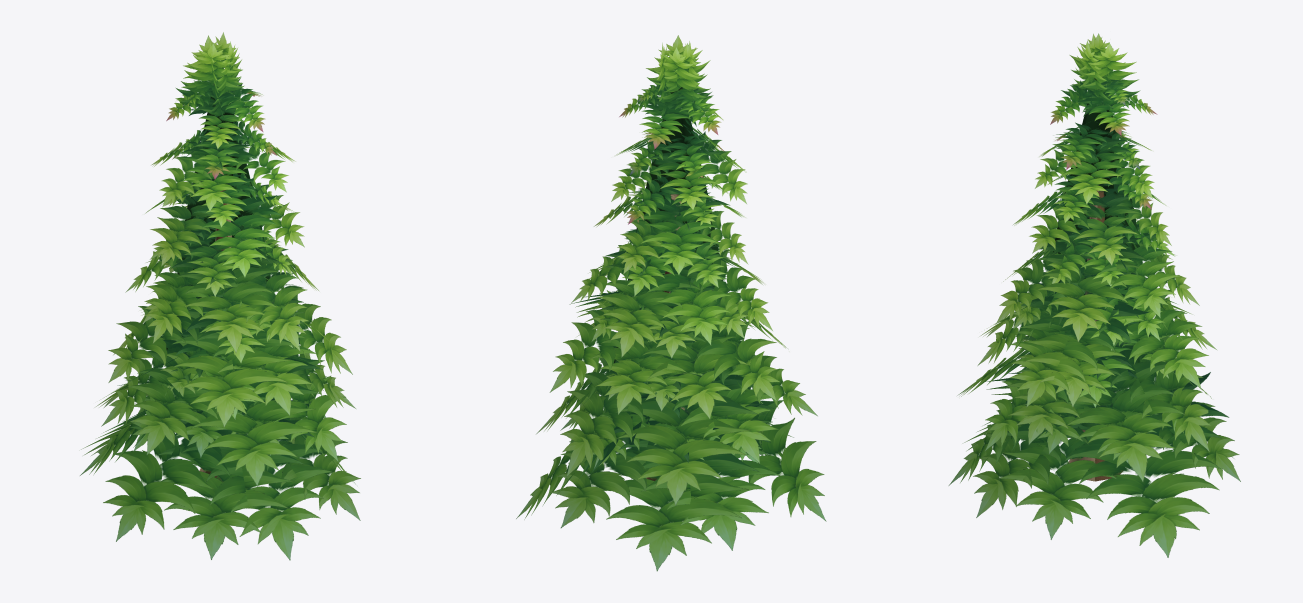
File: conifer5_c.glb
The picture shows the model from 3 angles, left to right: view 1: azimuth 30°, elevation 25°; view 2: azimuth 150°, elevation 25°; view 3: azimuth 270°, elevation 25°; orthographic projection. The views are drawn at different scales.
Parts seen in each view (by area): view 1: conifer; view 2: conifer; view 3: conifer.
Boxes of the visible parts, box(x1,y1,x2,y2) form: conifer: box(80, 32, 360, 560); conifer: box(516, 35, 826, 571); conifer: box(948, 33, 1240, 557).
Bounding box in the file's own units: 4.36 × 5.73 × 4.26.
Materials: 2 (2 with a texture image).
